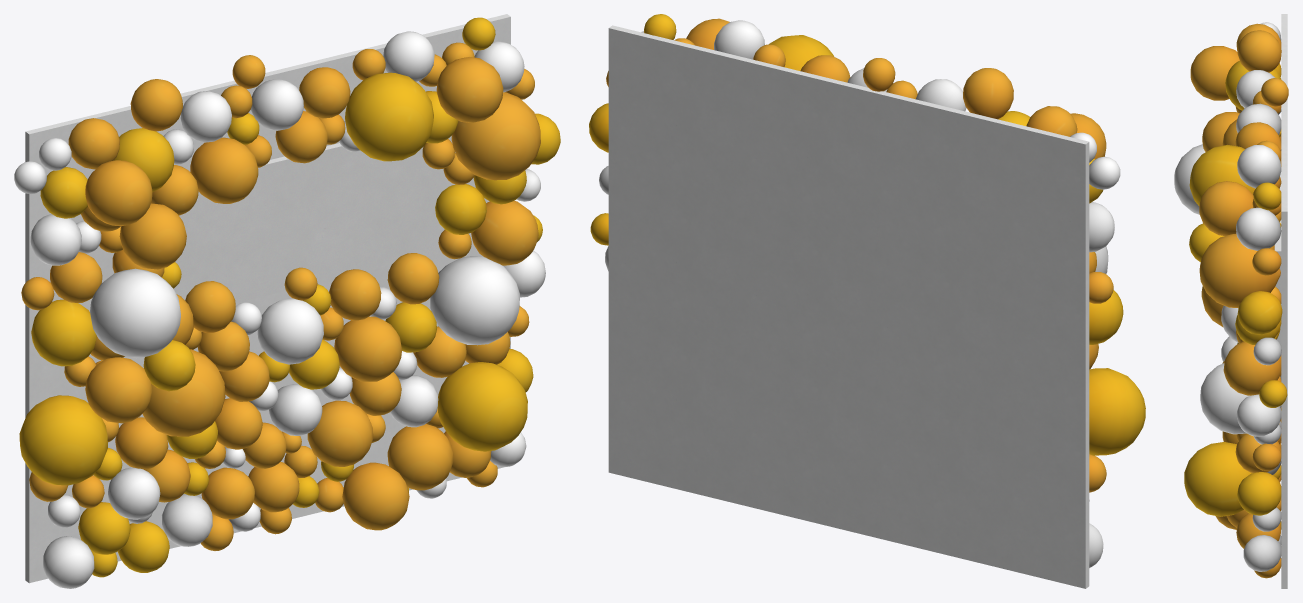
The model's file is PartyBalloons03_GR5_2.FBX.
The picture shows the model from 3 angles, left to right: view 1: azimuth 30°, elevation 25°; view 2: azimuth 150°, elevation 25°; view 3: azimuth 270°, elevation 25°; orthographic projection. The views are drawn at different scales.
Visible parts, largest first — view 1: PartyBalloons03_GR5_2; view 2: PartyBalloons03_GR5_2; view 3: PartyBalloons03_GR5_2.
Part boxes in pixels (x1,y1,x2,y2): PartyBalloons03_GR5_2: (14, 14, 560, 588); PartyBalloons03_GR5_2: (589, 14, 1145, 588); PartyBalloons03_GR5_2: (1174, 14, 1288, 588).
Size of what is drawn, in the model's own units: 4.11 by 3.53 by 0.8942.
